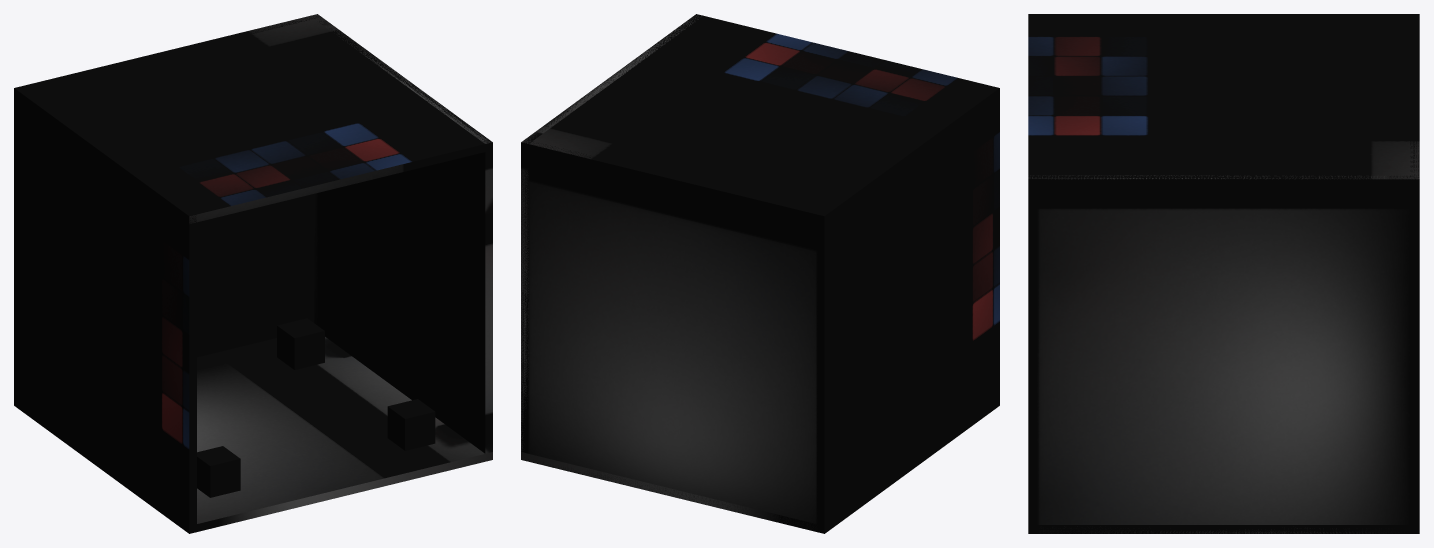
Rendered from room1.obj.
3 renders of one model, left to right at view 1: azimuth 30°, elevation 25°; view 2: azimuth 150°, elevation 25°; view 3: azimuth 270°, elevation 25°, orthographic. The views are drawn at different scales.
Parts seen in each view (by area): view 1: Box04, Box02, Box03, Box01, Box05, Box09, Box08, Box10; view 2: Box05, Box04, Box02, Box01, Box03; view 3: Box03, Box02, Box01, Box05, Box04.
Boxes of the visible parts, bbox=[...] form: Box04: bbox=[14, 88, 196, 532]; Box02: bbox=[14, 14, 492, 223]; Box03: bbox=[314, 14, 492, 453]; Box01: bbox=[14, 337, 492, 533]; Box05: bbox=[14, 14, 320, 408]; Box09: bbox=[387, 399, 435, 450]; Box08: bbox=[277, 318, 324, 369]; Box10: bbox=[197, 446, 240, 497]; Box05: bbox=[521, 141, 828, 533]; Box04: bbox=[817, 87, 999, 533]; Box02: bbox=[521, 14, 999, 223]; Box01: bbox=[521, 398, 999, 533]; Box03: bbox=[521, 14, 701, 451]; Box03: bbox=[1028, 175, 1419, 533]; Box02: bbox=[1028, 14, 1419, 188]; Box01: bbox=[1028, 525, 1419, 533]; Box05: bbox=[1410, 14, 1419, 533]; Box04: bbox=[1028, 14, 1419, 17].
Bounding box in the file's own units: 20 × 20 × 20.
1 material, 1 textured.
